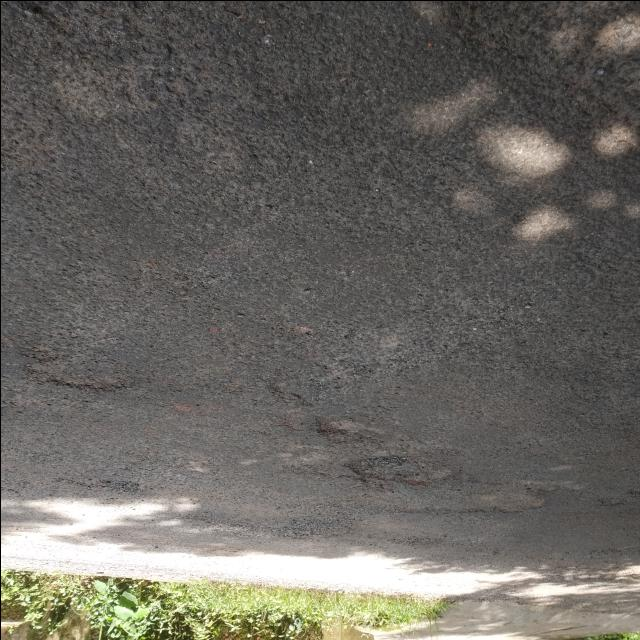cracks: (0, 338, 149, 427)
potholes: (276, 392, 404, 444), (333, 446, 473, 490)
